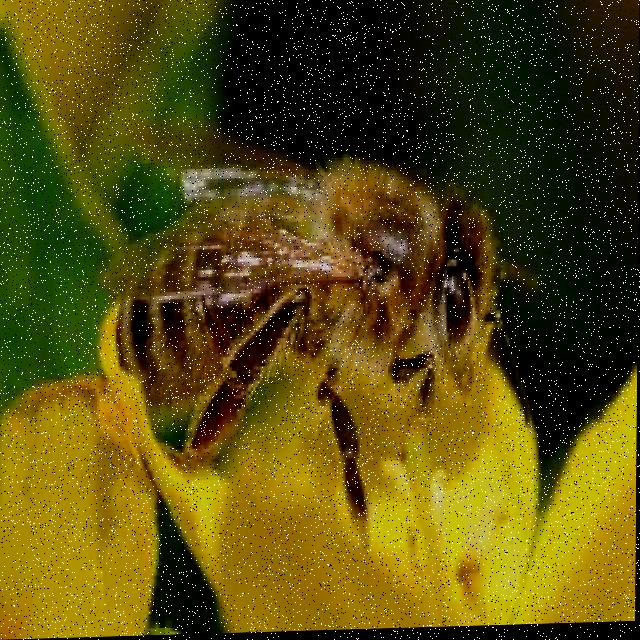Apis-mellifera-scutellata: (98, 106, 556, 509)
